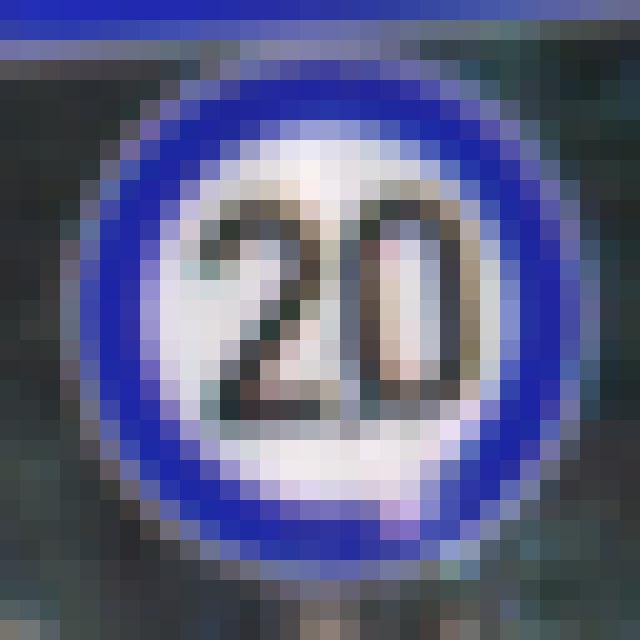SPEED LIMIT 20: (67, 53, 622, 579)
